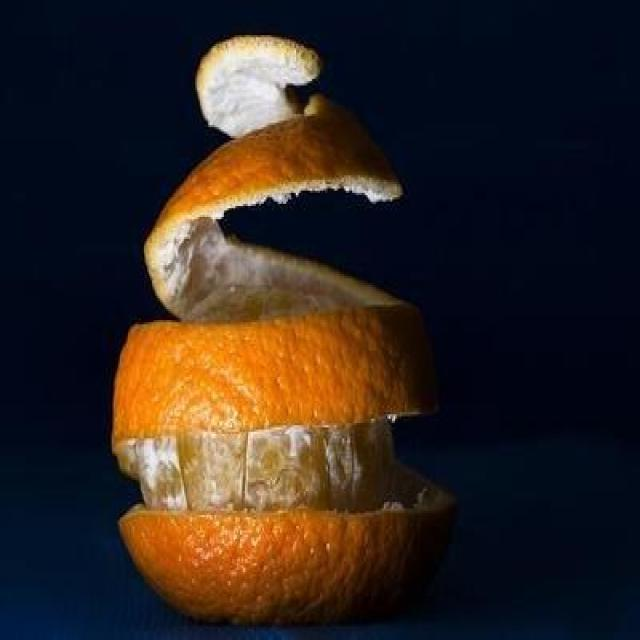Wet Waste: (109, 28, 451, 622)
